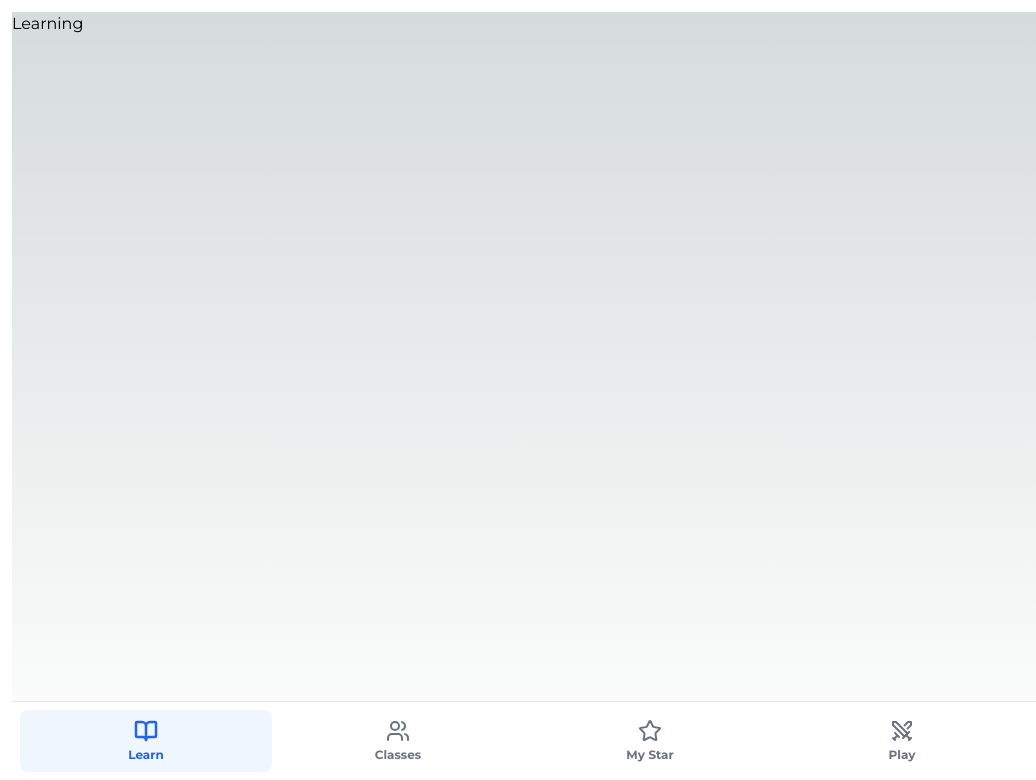
Test: #744 — student class memberships › shows all current memberships: {"courseId":"one","courseName":"Science explorers"}
The image size is (1036, 780).
Step 1. Click the button with test id "nav-classes" → [398, 741], box 272,710 -> 524,772
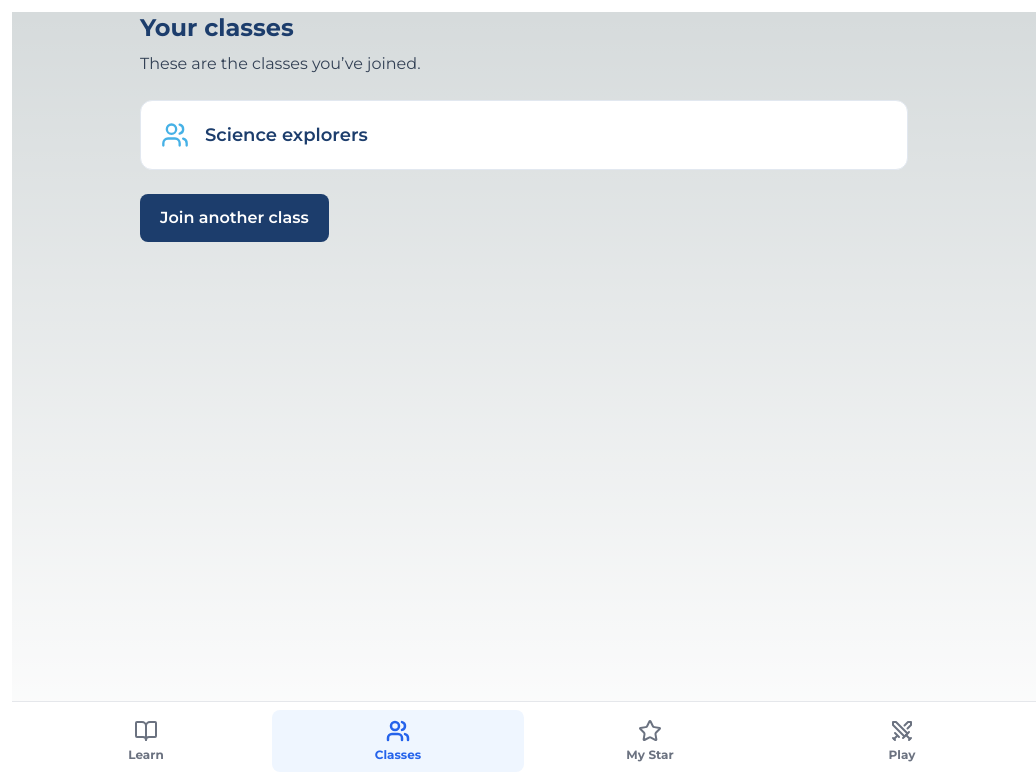
Expected: the heading "Science explorers" is shown, 205,121 -> 368,149
Expected: the link "Join another class" is shown, 140,194 -> 329,242
